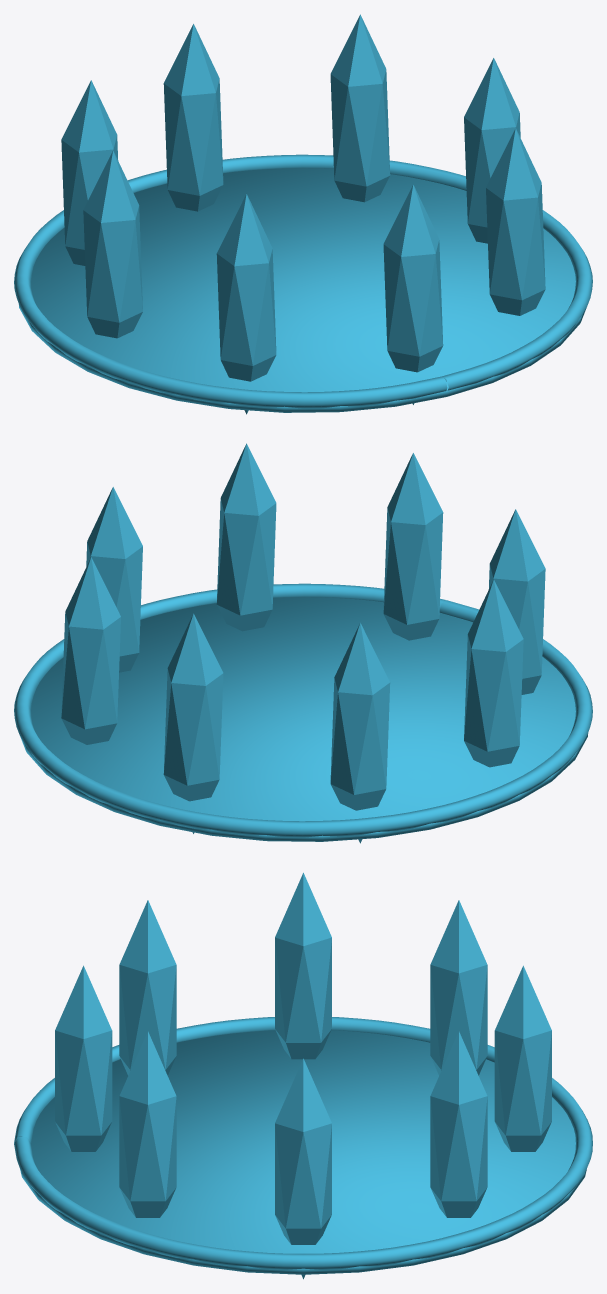
The model's file is ground-1-refined-v15.fbx.
3 views of the same model, one above another, from view 1: azimuth 30°, elevation 25°; view 2: azimuth 150°, elevation 25°; view 3: azimuth 270°, elevation 25° (orthographic).
Visible parts, largest first — view 1: GroundSurface.001, AreaRune.003, ElementalShard.023, ElementalShard.016, ElementalShard.019, ElementalShard.022, ElementalShard.020, ElementalShard.017, ElementalShard.018, ElementalShard.021; view 2: GroundSurface.001, AreaRune.003, ElementalShard.021, ElementalShard.020, ElementalShard.017, ElementalShard.022, ElementalShard.016, ElementalShard.019, ElementalShard.018, ElementalShard.023; view 3: GroundSurface.001, AreaRune.003, ElementalShard.017, ElementalShard.019, ElementalShard.020, ElementalShard.016, ElementalShard.022, ElementalShard.018, ElementalShard.021, ElementalShard.023.
Part boxes in pixels (x1,y1,x2,y2): GroundSurface.001: (18, 168, 586, 412); AreaRune.003: (14, 154, 592, 408); ElementalShard.023: (216, 194, 276, 414); ElementalShard.016: (383, 184, 443, 404); ElementalShard.019: (330, 14, 390, 202); ElementalShard.022: (83, 150, 142, 338); ElementalShard.020: (163, 24, 223, 211); ElementalShard.017: (486, 128, 545, 315); ElementalShard.018: (464, 58, 520, 243); ElementalShard.021: (61, 80, 118, 265); GroundSurface.001: (20, 597, 588, 841); AreaRune.003: (14, 583, 592, 837); ElementalShard.021: (330, 623, 390, 843); ElementalShard.020: (163, 613, 223, 833); ElementalShard.017: (216, 443, 276, 631); ElementalShard.022: (464, 579, 523, 767); ElementalShard.016: (383, 453, 443, 640); ElementalShard.019: (61, 557, 120, 744); ElementalShard.018: (86, 487, 142, 672); ElementalShard.023: (488, 509, 545, 694); GroundSurface.001: (18, 1030, 586, 1274); AreaRune.003: (14, 1017, 592, 1269); ElementalShard.017: (119, 1031, 176, 1217); ElementalShard.019: (430, 1031, 487, 1217); ElementalShard.020: (494, 965, 551, 1151); ElementalShard.016: (55, 965, 112, 1151); ElementalShard.022: (275, 872, 331, 1059); ElementalShard.018: (275, 1058, 331, 1279); ElementalShard.021: (430, 900, 487, 1075); ElementalShard.023: (119, 900, 176, 1075).
Bounding box in the file's own units: 94.8 × 40 × 94.79.
